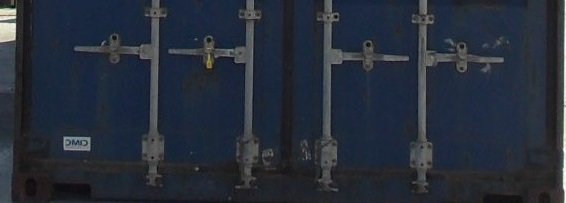container_door: (15, 2, 564, 198)
